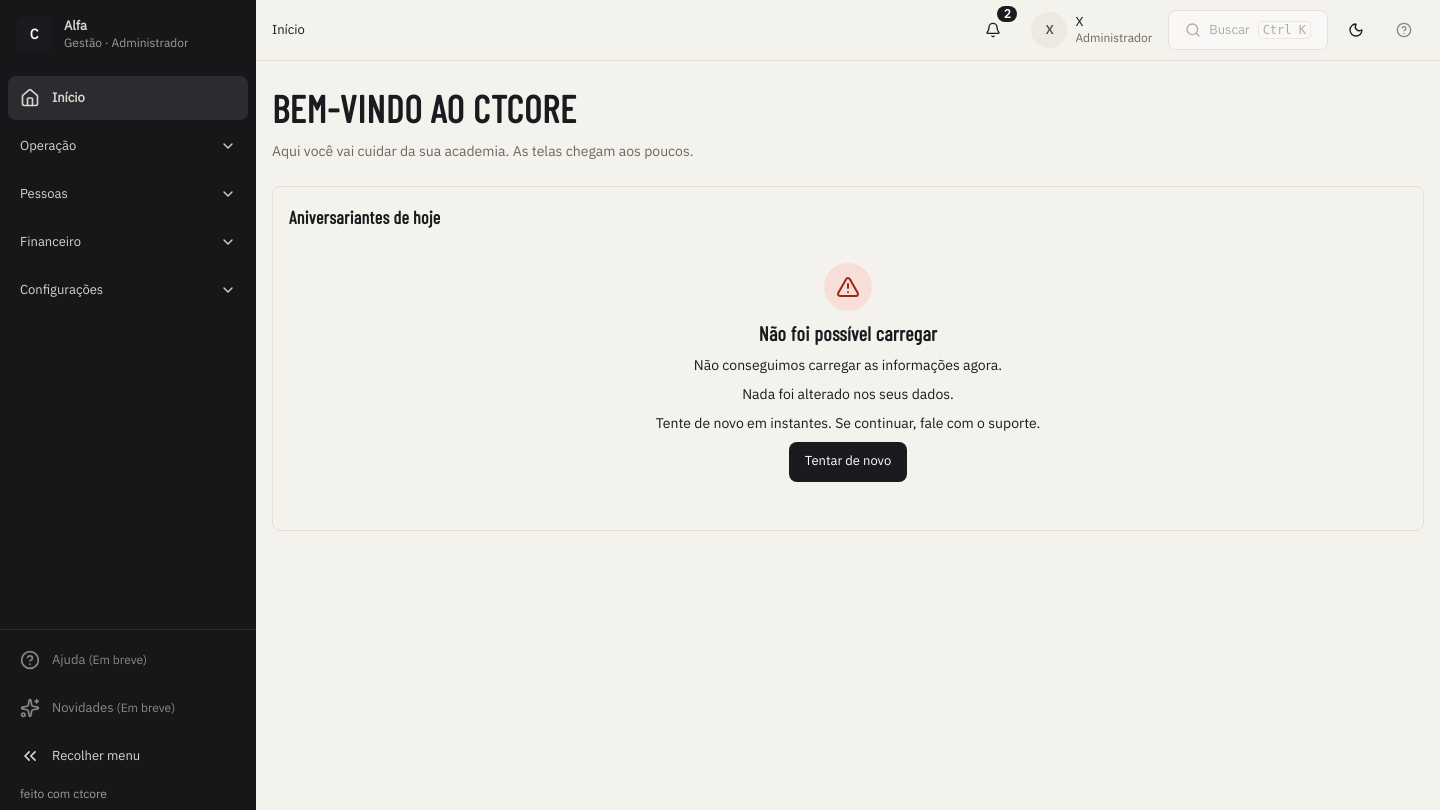
Test: NotificationPanel (RF-NOT-01) › CA15: mostra os grupos, filtra as não lidas, leva ao objeto e marca todas como lidas
The width and height of the screenshot is (1440, 810).
Click the button named "Notificações": coordinates (993, 30) [971, 8, 1015, 52]
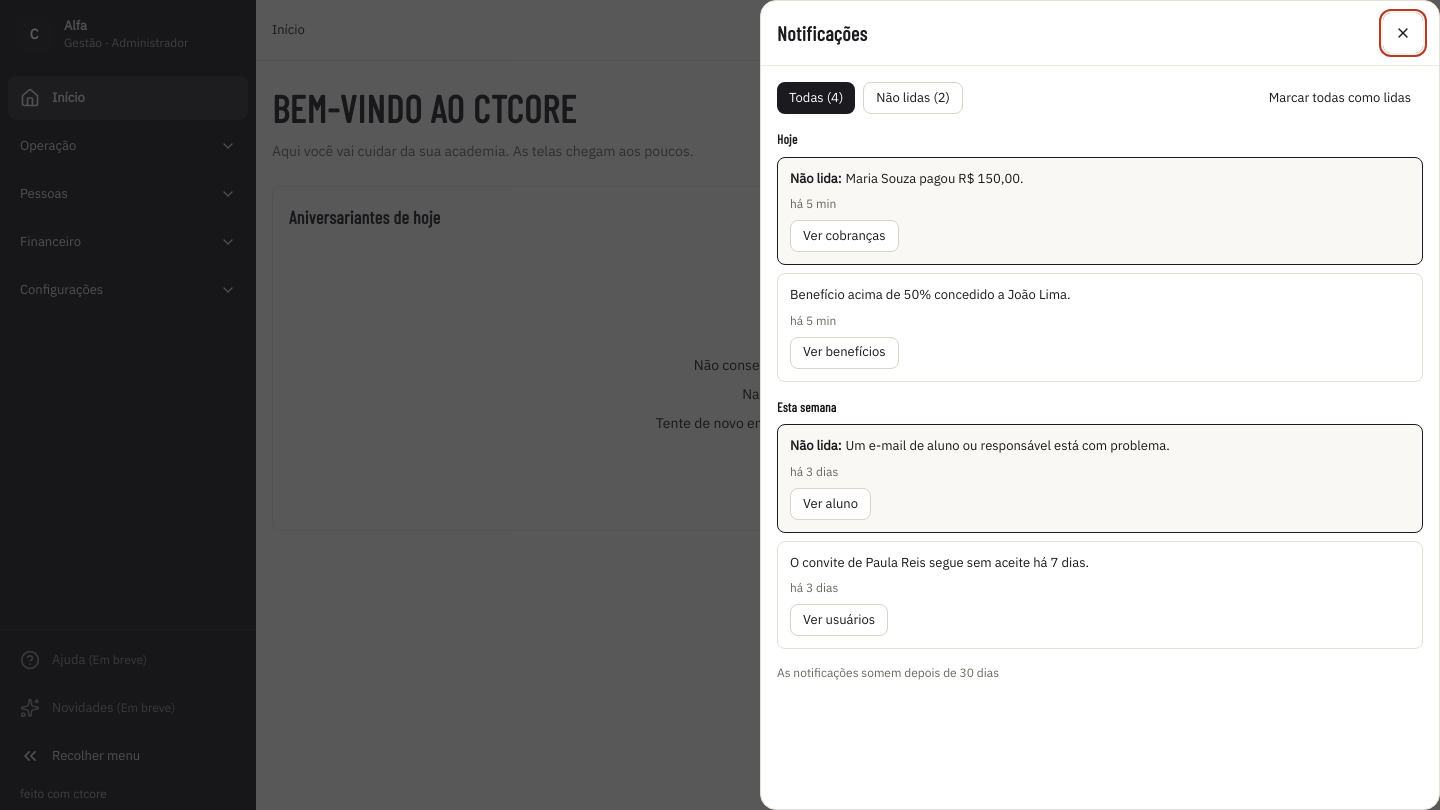
Expected: the heading "Hoje" is shown, [777, 131, 798, 147]
Expected: the heading "Esta semana" is shown, [777, 399, 836, 415]
Expected: the text "Não lida:Maria Souza pagou R$ 150,00." is shown, [790, 170, 1024, 187]
Click the button "Não lidas (2)": coordinates (913, 98) [863, 82, 963, 114]
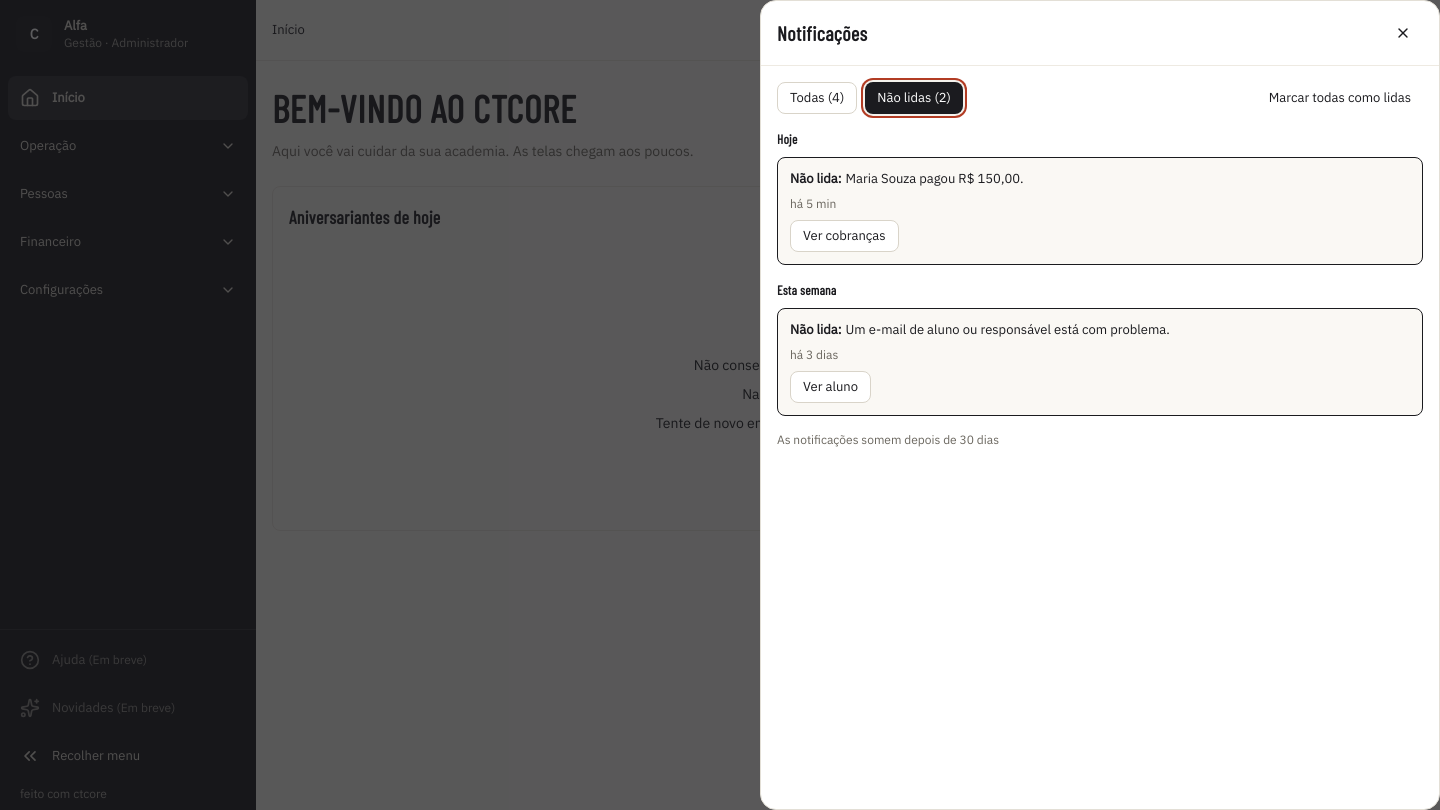
Expected: the text "João Lima" is gone
Click the button "Marcar todas como lidas": coordinates (1340, 98) [1257, 82, 1423, 114]
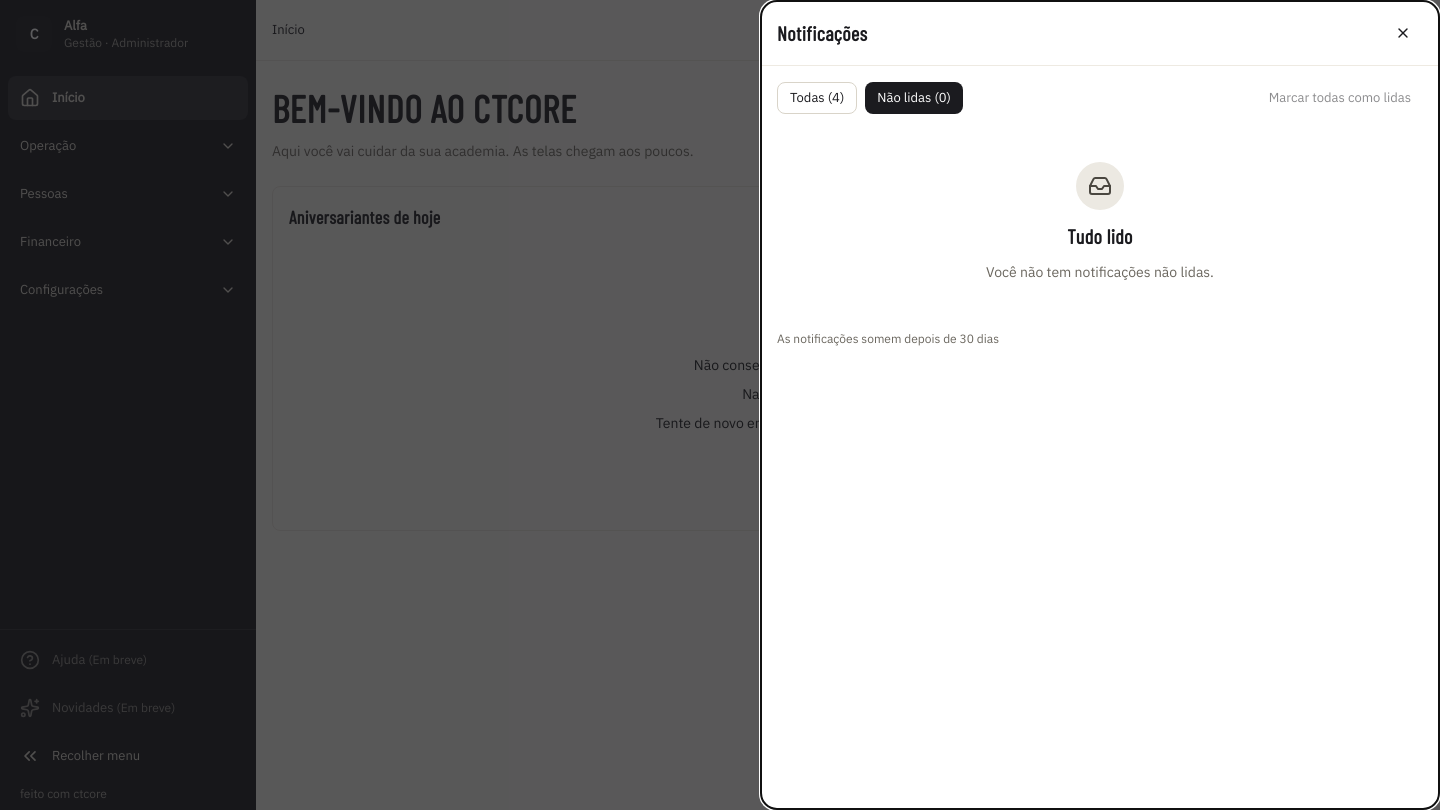
Expected: the text "As notificações somem depois de 30 dias" is shown, [777, 331, 999, 346]
Expected: the heading "Tudo lido" is shown, [1067, 222, 1133, 250]
